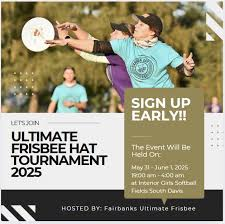disc: (20, 18, 58, 54)
